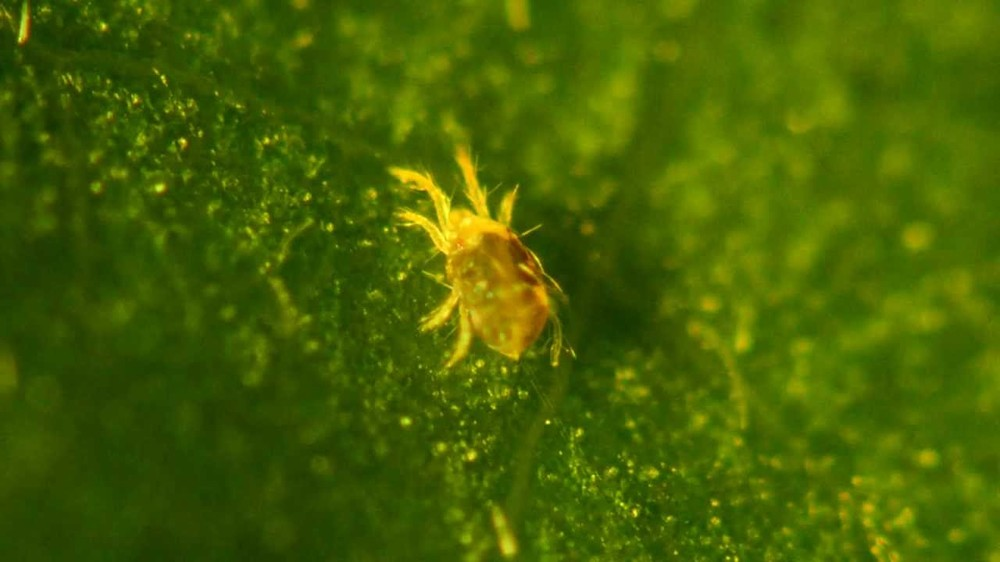Aracnido Rojo: (373, 136, 595, 392)
